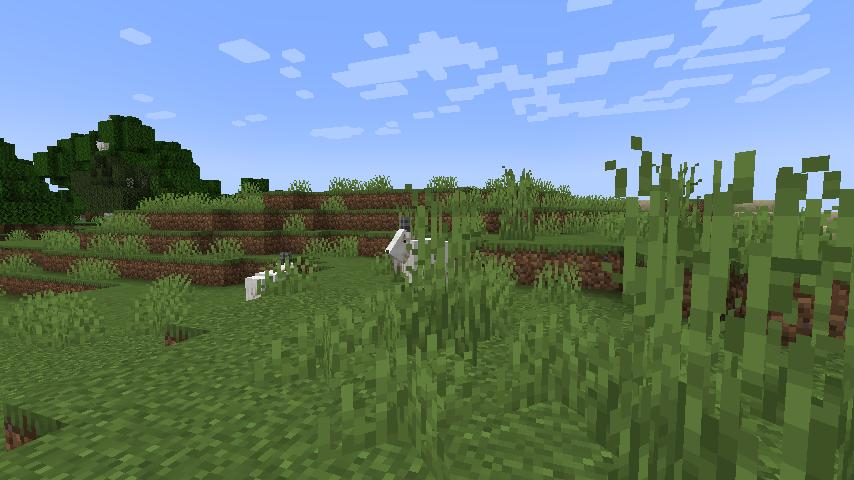goat: (388, 217, 455, 287), (245, 252, 300, 300)
